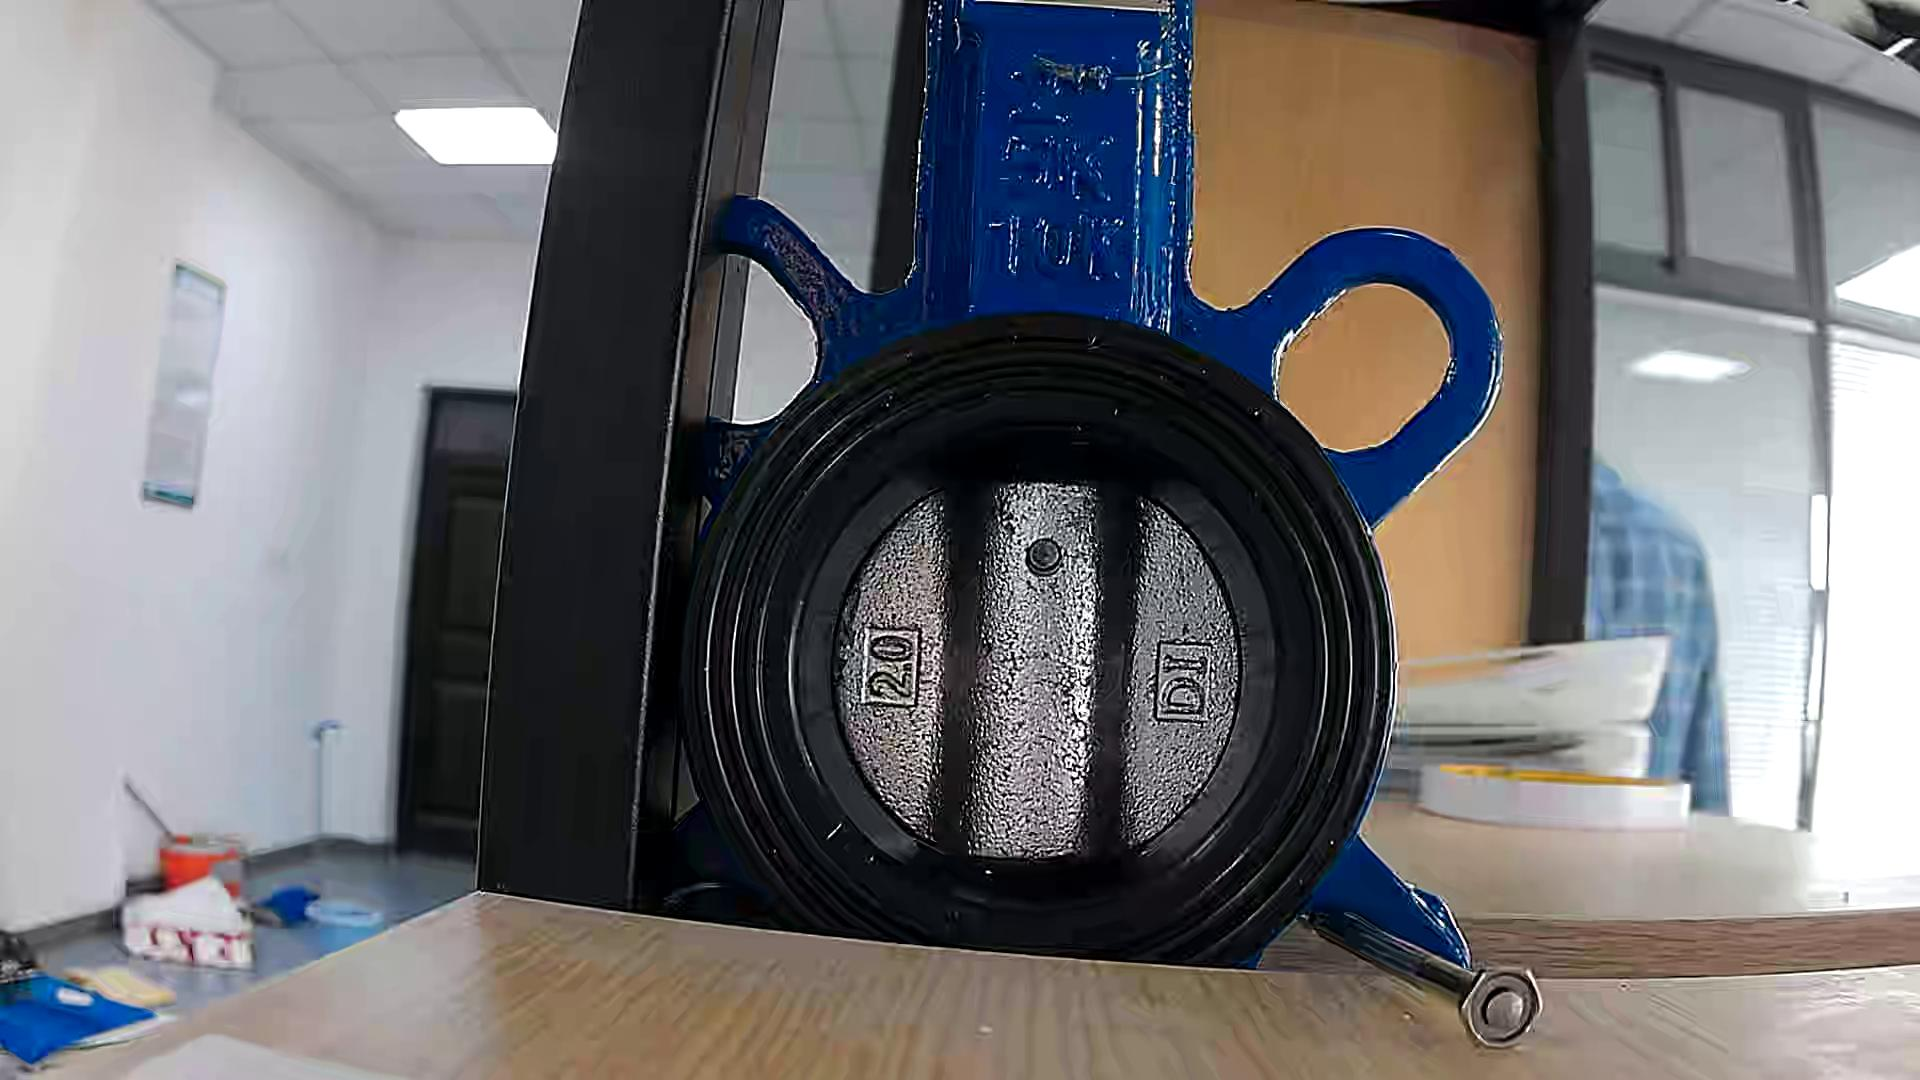valve: (836, 480, 1241, 862)
